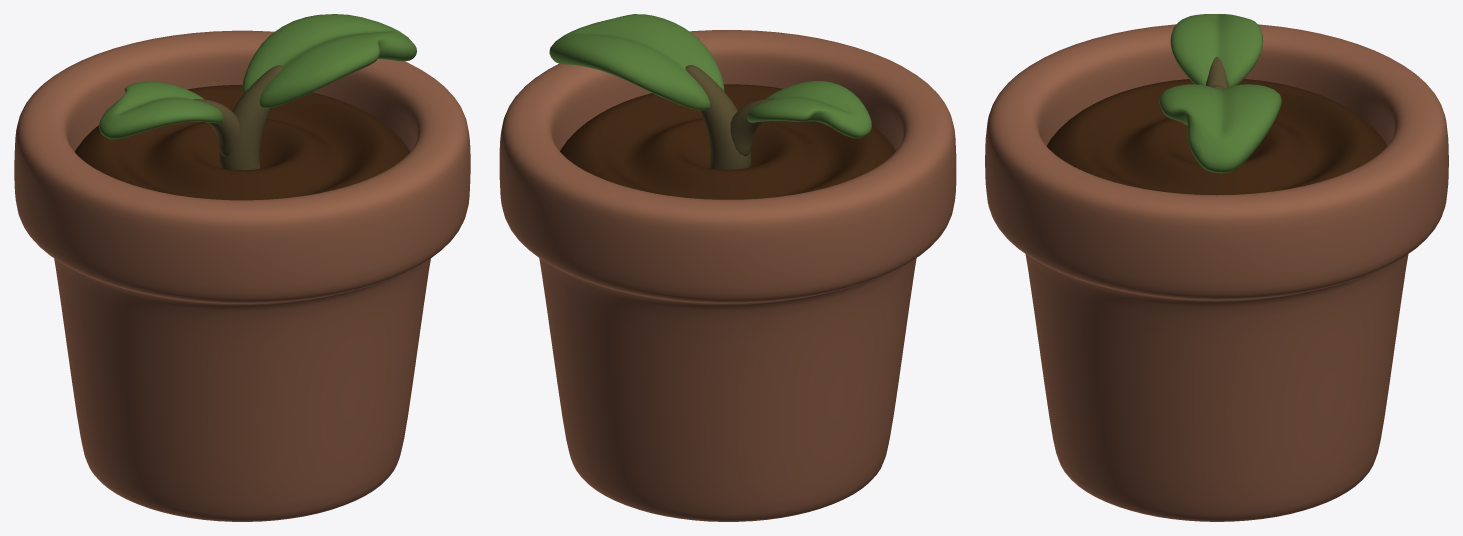
The model's file is Plant_Leafy_Sprout_Pot.glb.
3 views of the same model, side by side, from view 1: azimuth 30°, elevation 25°; view 2: azimuth 150°, elevation 25°; view 3: azimuth 270°, elevation 25° (orthographic).
Visible parts, largest first — view 1: Plant_Leafy_Sprout_Pot_Body, Plant_Leafy_Sprout_Pot_Soil, Plant_Leafy_Sprout_Pot_Leaf01, Plant_Leafy_Sprout_Pot_Leaf02; view 2: Plant_Leafy_Sprout_Pot_Body, Plant_Leafy_Sprout_Pot_Soil, Plant_Leafy_Sprout_Pot_Leaf01, Plant_Leafy_Sprout_Pot_Leaf02; view 3: Plant_Leafy_Sprout_Pot_Body, Plant_Leafy_Sprout_Pot_Soil, Plant_Leafy_Sprout_Pot_Leaf01, Plant_Leafy_Sprout_Pot_Leaf02.
Boxes of the visible parts, x1,y1,x2,y2 form: Plant_Leafy_Sprout_Pot_Body: (14, 30, 470, 521); Plant_Leafy_Sprout_Pot_Soil: (75, 85, 409, 200); Plant_Leafy_Sprout_Pot_Leaf01: (219, 14, 416, 170); Plant_Leafy_Sprout_Pot_Leaf02: (99, 81, 239, 156); Plant_Leafy_Sprout_Pot_Body: (499, 30, 956, 521); Plant_Leafy_Sprout_Pot_Soil: (560, 84, 895, 199); Plant_Leafy_Sprout_Pot_Leaf01: (549, 14, 750, 169); Plant_Leafy_Sprout_Pot_Leaf02: (730, 81, 871, 156); Plant_Leafy_Sprout_Pot_Body: (985, 24, 1448, 521); Plant_Leafy_Sprout_Pot_Soil: (1046, 79, 1387, 195); Plant_Leafy_Sprout_Pot_Leaf01: (1158, 84, 1281, 173); Plant_Leafy_Sprout_Pot_Leaf02: (1170, 14, 1263, 88).
Bounding box in the file's own units: 1.31 × 1.29 × 1.31.
